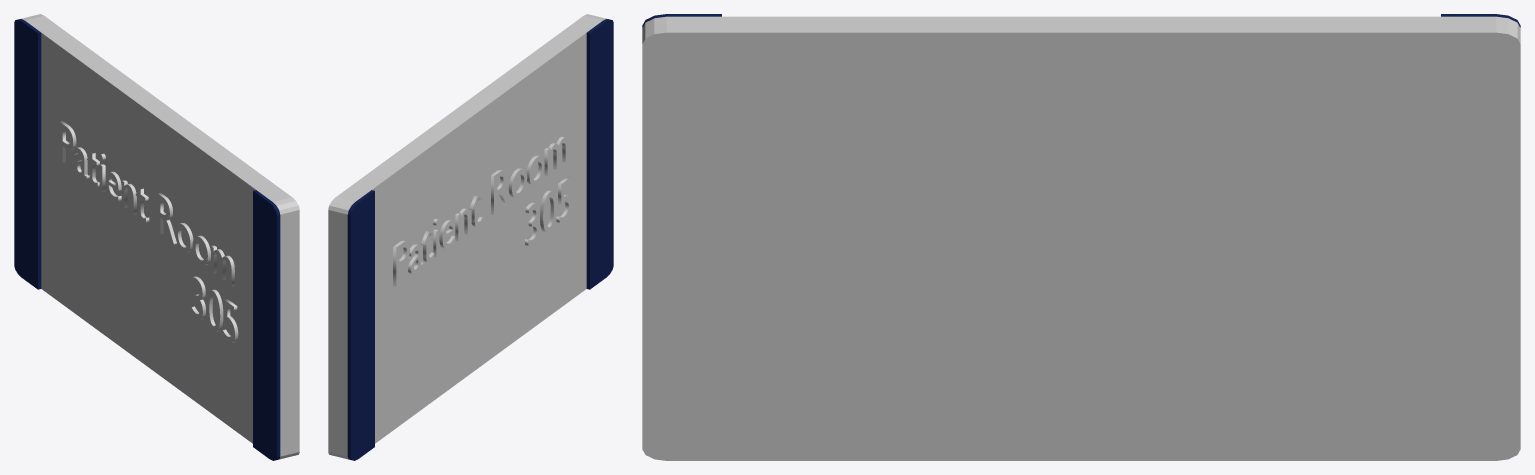
File: doorNumber.fbx
3 renders of one model, left to right at view 1: azimuth 30°, elevation 25°; view 2: azimuth 150°, elevation 25°; view 3: azimuth 270°, elevation 25°, orthographic. The views are drawn at different scales.
Parts seen in each view (by area): view 1: Cube, Text.002; view 2: Cube, Text.002; view 3: Cube.
Boxes of the visible parts, bbox=[...] form: Cube: bbox=[14, 14, 299, 460]; Text.002: bbox=[59, 121, 238, 343]; Cube: bbox=[328, 14, 613, 460]; Text.002: bbox=[393, 136, 571, 286]; Cube: bbox=[642, 14, 1520, 460].
Size of the model in its own units: 28.18 by 302 by 562.
